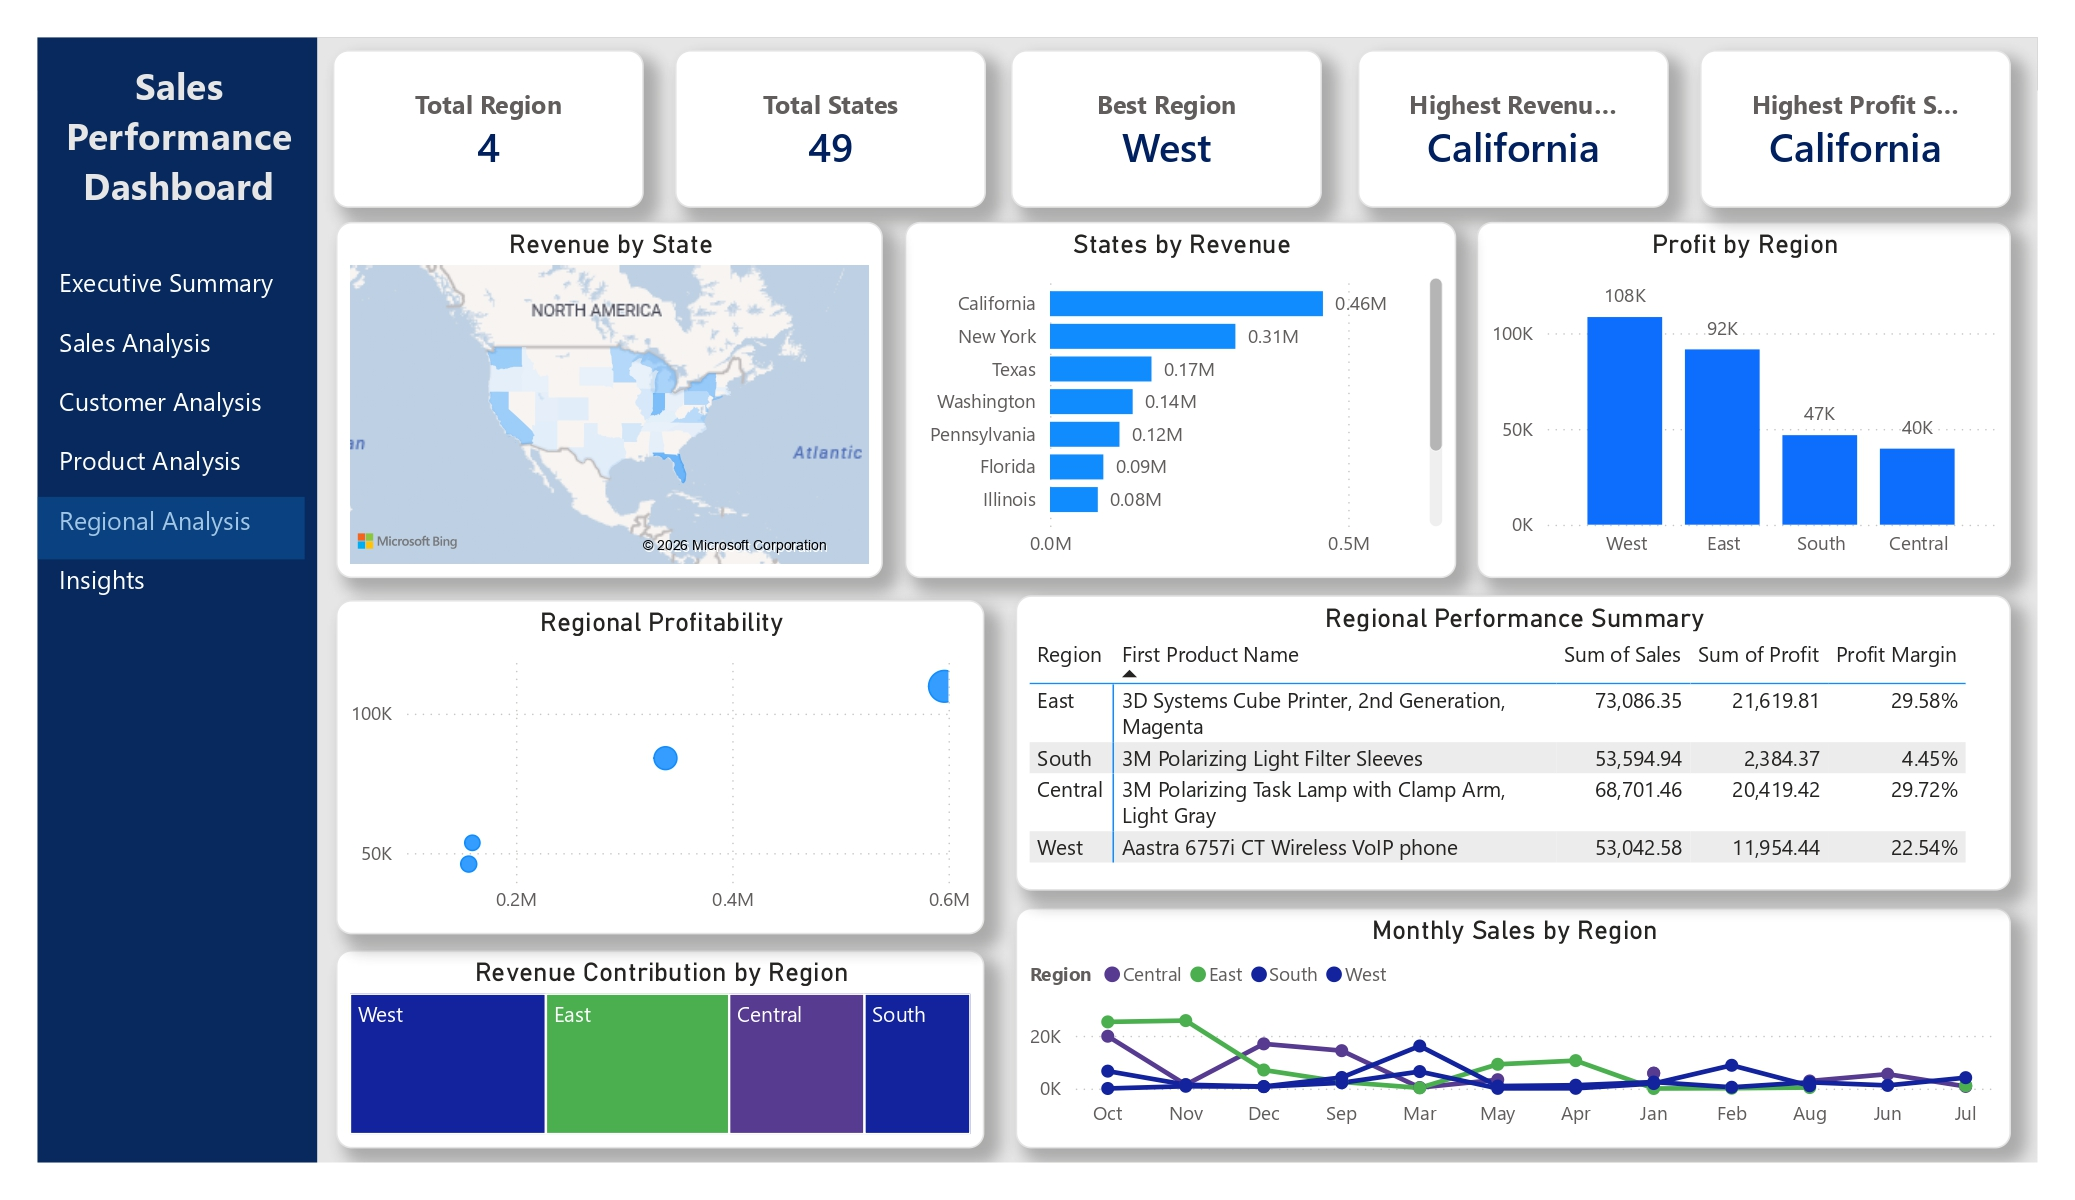

The page's visual inventory and layout, read from the dashboard file:
{"tool":"powerbi","page":{"name":"Page 5","canvas":[1280,720],"ordinal":4},"visuals":[{"type":"cardVisual","title":"Total Sales","fields":{"Data":["Store Data.Total Region"]},"box":[189.4,8.4,199.1,100.1],"z":0},{"type":"cardVisual","fields":{"Data":["Store Data.Total States"]},"box":[407.8,8.4,199.1,100.1],"z":1000},{"type":"cardVisual","fields":{"Data":["Store Data.Best Region"]},"box":[622.5,8.4,199.1,100.1],"z":2000},{"type":"cardVisual","fields":{"Data":["Store Data.Highest Revenue State"]},"box":[844.5,8.4,199.1,100.1],"z":3000},{"type":"clusteredColumnChart","title":"Profit by Region","fields":{"Category":["Store Data.Region"],"Y":["Store Data.Total Profit"]},"box":[921.2,117.5,341.2,228.8],"z":4000},{"type":"treemap","title":"Revenue Contribution by Region","fields":{"Group":["Store Data.Region"],"Values":["Store Data.Total Sales"]},"box":[191.4,584.3,414.3,127.1],"z":5000},{"type":"clusteredBarChart","title":"States by Revenue","fields":{"Category":["Store Data.State"],"Y":["Store Data.Total Sales"]},"box":[555,117.5,352.5,228.8],"z":6000},{"type":"shape","box":[0,0,178.8,720],"z":7000},{"type":"textbox","box":[8.8,141.2,162.5,237.5],"z":8000},{"type":"cardVisual","fields":{"Data":["Store Data.Highest Profit State"]},"box":[1064.1,8.4,199.1,100.1],"z":9000},{"type":"filledMap","title":"Revenue by State","fields":{"Category":["Store Data.State"]},"box":[191.2,117.5,350,228.8],"z":10000},{"type":"lineChart","title":"Monthly Sales by Region","fields":{"Category":["DateTable.Month"],"Y":["Sum(Store Data.Sales)"],"Series":["Store Data.Region"]},"box":[625.7,557.1,637.1,154.3],"z":11000},{"type":"pivotTable","title":"Regional Performance Summary","fields":{"Rows":["Store Data.Region"],"Values":["Min(Store Data.Product Name)","Sum(Store Data.Sales)","Sum(Store Data.Profit)","Store Data.Profit Margin"]},"box":[625.7,357.1,637.1,188.6],"z":12000},{"type":"shape","box":[0,294.4,171.3,39.8],"z":13000},{"type":"scatterChart","title":"Regional Profitability","fields":{"X":["Sum(Store Data.Sales)"],"Y":["Sum(Store Data.Profit)"],"Category":["Store Data.Region"],"Size":["Store Data.Total Orders"]},"box":[191.4,360,414.3,214.3],"z":14000},{"type":"textbox","box":[7.1,8.6,167.1,110],"z":15000},{"type":"shape","box":[0,334.2,171.3,39.8],"z":15001},{"type":"shape","box":[0,217.2,171.3,39.8],"z":15002},{"type":"shape","box":[0,177.3,171.3,39.8],"z":15003},{"type":"shape","box":[0,137.5,171.3,39.8],"z":15004},{"type":"shape","box":[0,254.6,171.3,39.8],"z":15005}]}

Visuals, with their boxes on the page's 1280x720 design canvas (x1, y1, x2, y2). These are canvas units, not pixel positions in the 2075x1200 screenshot, which may show the page scaled, cropped or inside an application window:
"Total Sales" cardVisual: rect(189, 8, 388, 108)
cardVisual - Store Data.Total States: rect(408, 8, 607, 108)
cardVisual - Store Data.Best Region: rect(622, 8, 822, 108)
cardVisual - Store Data.Highest Revenue State: rect(844, 8, 1044, 108)
"Profit by Region" clusteredColumnChart: rect(921, 118, 1262, 346)
"Revenue Contribution by Region" treemap: rect(191, 584, 606, 711)
"States by Revenue" clusteredBarChart: rect(555, 118, 908, 346)
shape: rect(0, 0, 179, 720)
textbox: rect(9, 141, 171, 379)
cardVisual - Store Data.Highest Profit State: rect(1064, 8, 1263, 108)
"Revenue by State" filledMap: rect(191, 118, 541, 346)
"Monthly Sales by Region" lineChart: rect(626, 557, 1263, 711)
"Regional Performance Summary" pivotTable: rect(626, 357, 1263, 546)
shape: rect(0, 294, 171, 334)
"Regional Profitability" scatterChart: rect(191, 360, 606, 574)
textbox: rect(7, 9, 174, 119)
shape: rect(0, 334, 171, 374)
shape: rect(0, 217, 171, 257)
shape: rect(0, 177, 171, 217)
shape: rect(0, 138, 171, 177)
shape: rect(0, 255, 171, 294)
